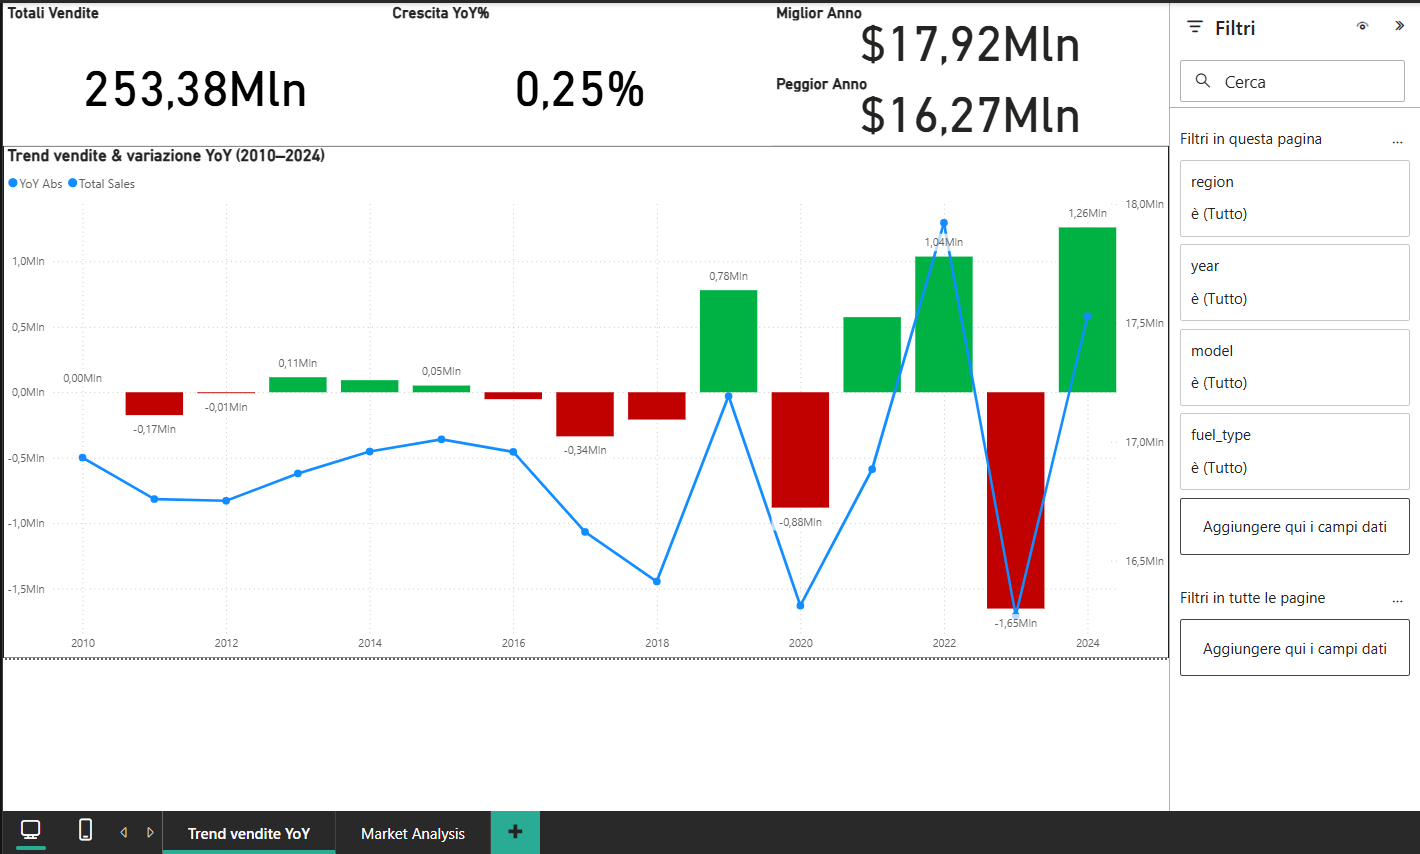

What the dashboard file says about the page in this screenshot:
{"tool":"powerbi","page":{"name":"Trend vendite YoY ","canvas":[1280,720],"ordinal":0},"visuals":[{"type":"actionButton","box":[0,0,100,40],"z":0},{"type":"lineClusteredColumnComboChart","title":"Trend vendite & variazione YoY (2010–2024)","fields":{"Category":["Years.Year"],"Y":["Years.YoY Abs (chart)"],"Y2":["Years.Total Sales"]},"box":[0,156.4,1280.3,564],"z":1000},{"type":"card","title":"Totali Vendite","fields":{"Values":["Years.Total Sales"]},"box":[0,0,422.6,156.4],"z":2000},{"type":"card","title":"Crescita YoY%","fields":{"Values":["Years.CAGR %"]},"box":[422.6,0,421.3,156.4],"z":3000},{"type":"card","title":"Miglior Anno","fields":{"Values":["Years.Best Year"]},"box":[843.9,0,436.4,78.2],"z":4000},{"type":"card","title":"Peggior Anno","fields":{"Values":["Years.Worst Year"]},"box":[843.9,78.2,436.4,78.2],"z":5000}]}

Visuals, with their boxes on the page's 1280x720 design canvas (x1, y1, x2, y2). These are canvas units, not pixel positions in the 1420x854 screenshot, which may show the page scaled, cropped or inside an application window:
actionButton: <box>0,0,100,40</box>
"Trend vendite & variazione YoY (2010–2024)" lineClusteredColumnComboChart: <box>0,156,1280,720</box>
"Totali Vendite" card: <box>0,0,423,156</box>
"Crescita YoY%" card: <box>423,0,844,156</box>
"Miglior Anno" card: <box>844,0,1280,78</box>
"Peggior Anno" card: <box>844,78,1280,156</box>
